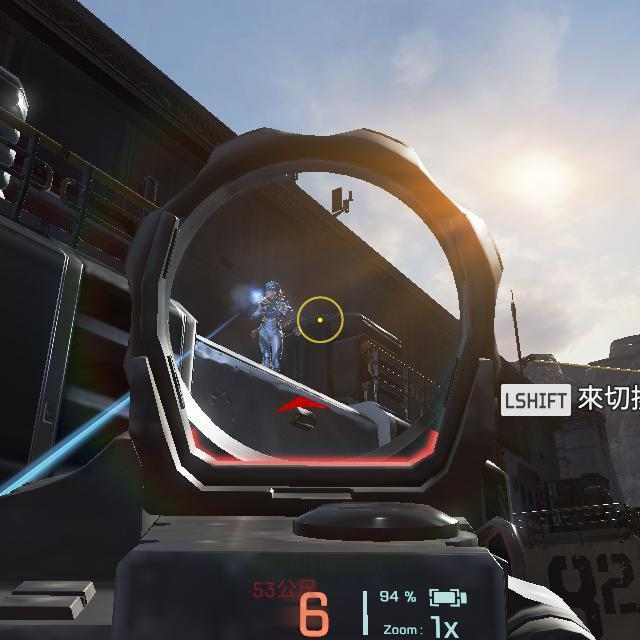avatar: (249, 279, 296, 375)
